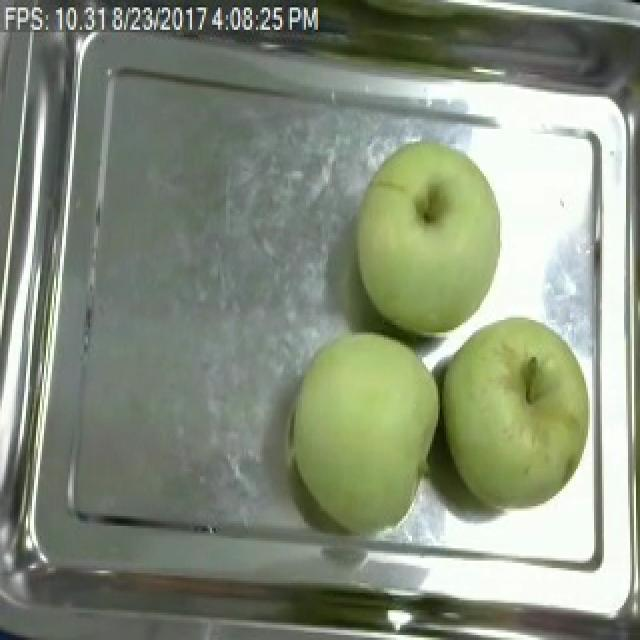50-_ripeness: (330, 127, 530, 330), (273, 312, 442, 544), (434, 324, 608, 525)
